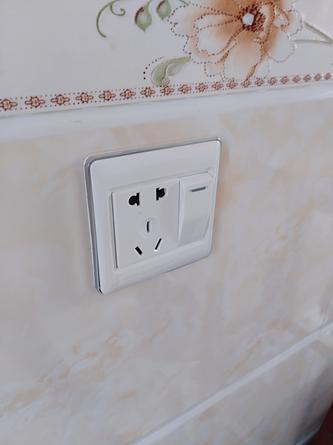switch: (179, 173, 210, 244)
